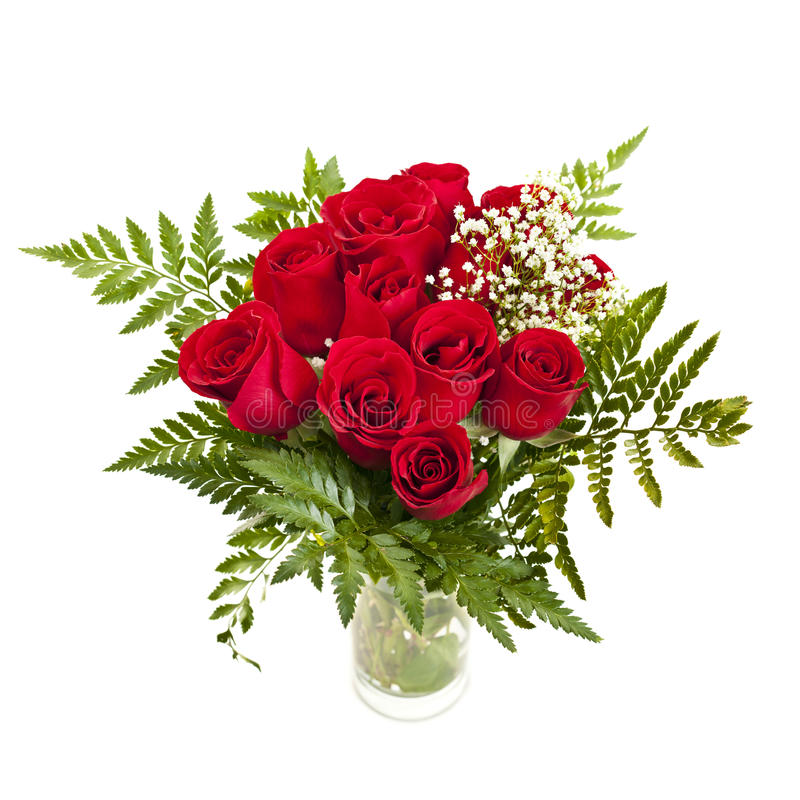RedRose: (175, 305, 309, 435), (306, 333, 428, 462), (318, 181, 447, 274), (409, 293, 508, 411), (254, 225, 357, 334), (492, 328, 587, 441), (348, 261, 432, 359), (387, 420, 475, 511), (447, 229, 519, 318), (400, 147, 471, 234), (463, 182, 557, 238), (554, 243, 613, 313)
